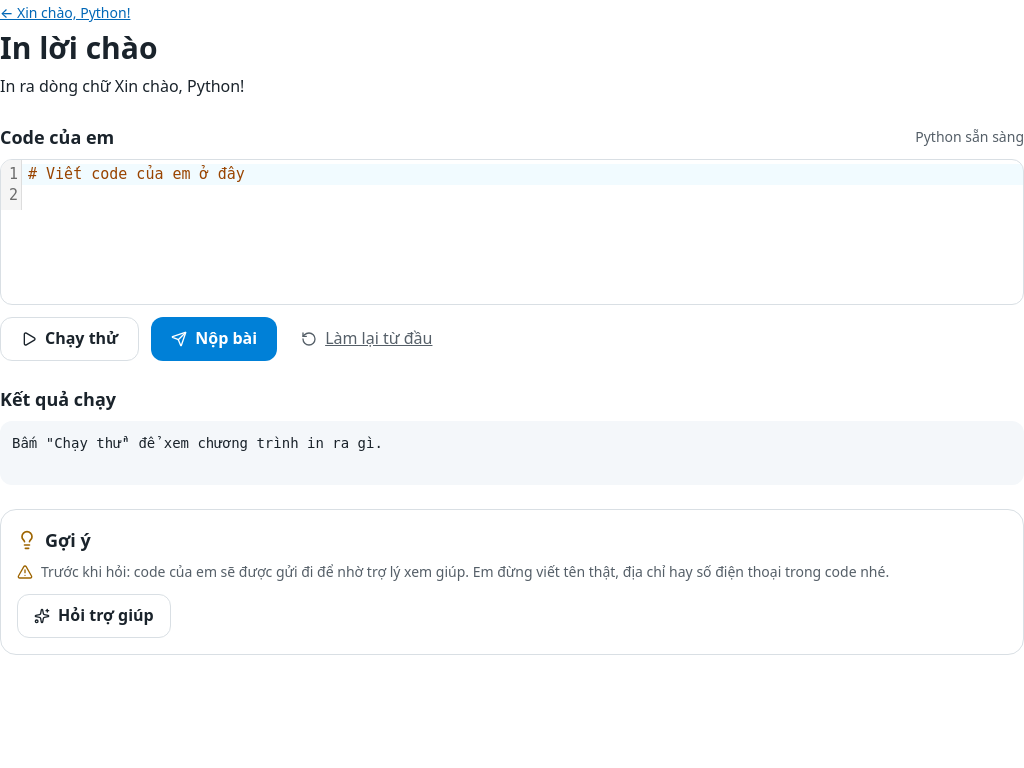
it: ExercisePage › hết giờ thì nói về vòng lặp, không mắng trẻ
Click the button "Chạy thử" at (70, 339), box 0,317 -> 139,361
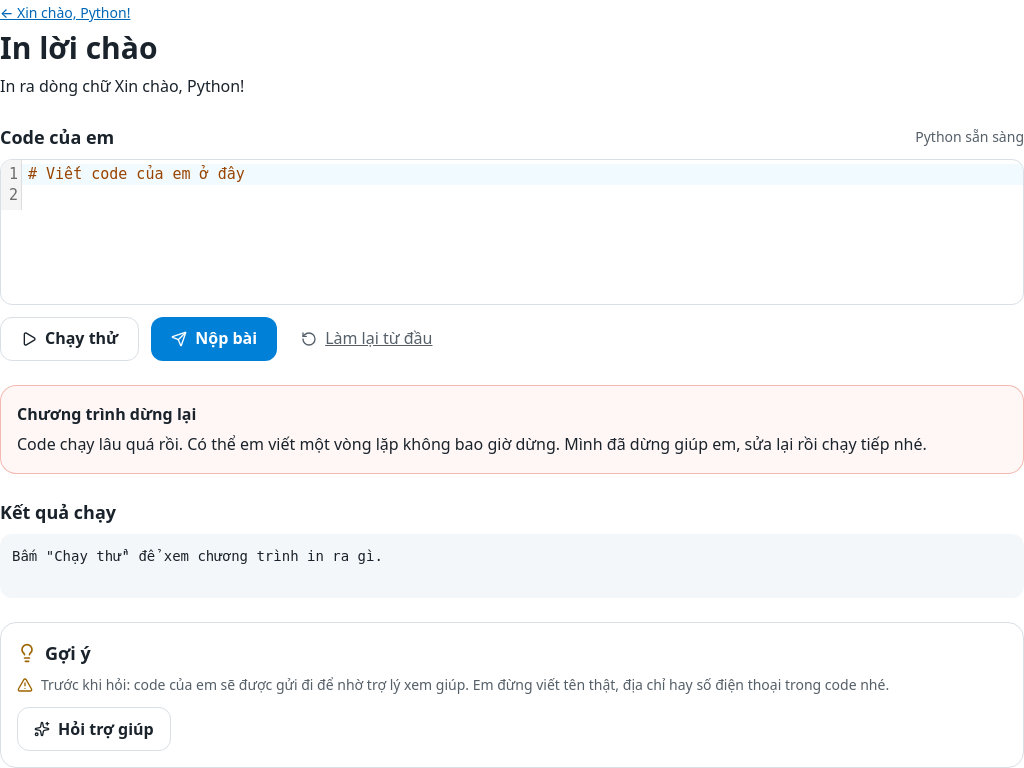
Now the message with test id "exercise-error" shows "Code chạy lâu quá rồi. Có thể em viết một vòng lặp không bao giờ dừng. Mình đã dừng giúp em, sửa lại rồi chạy tiếp nhé.", box 17,433 -> 927,455
